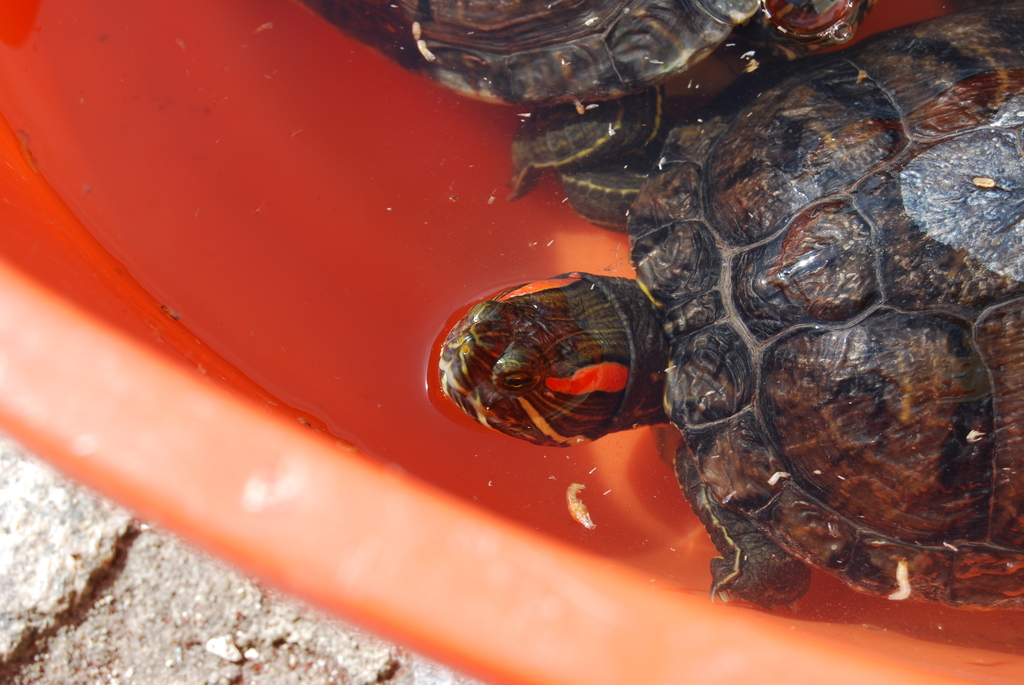Sea turtles: (435, 0, 1023, 614), (287, 0, 867, 200)
